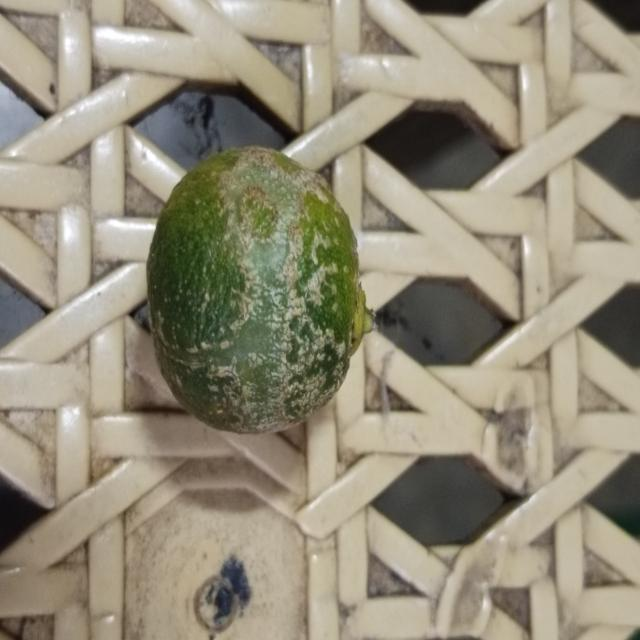thrips: (146, 146, 368, 440)
